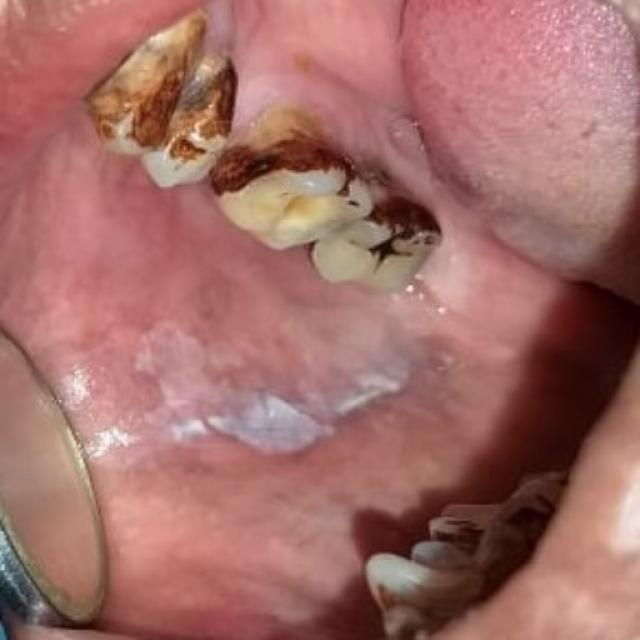leukoplakia-detection: (99, 312, 474, 467)
processing_area: (0, 2, 638, 623)
